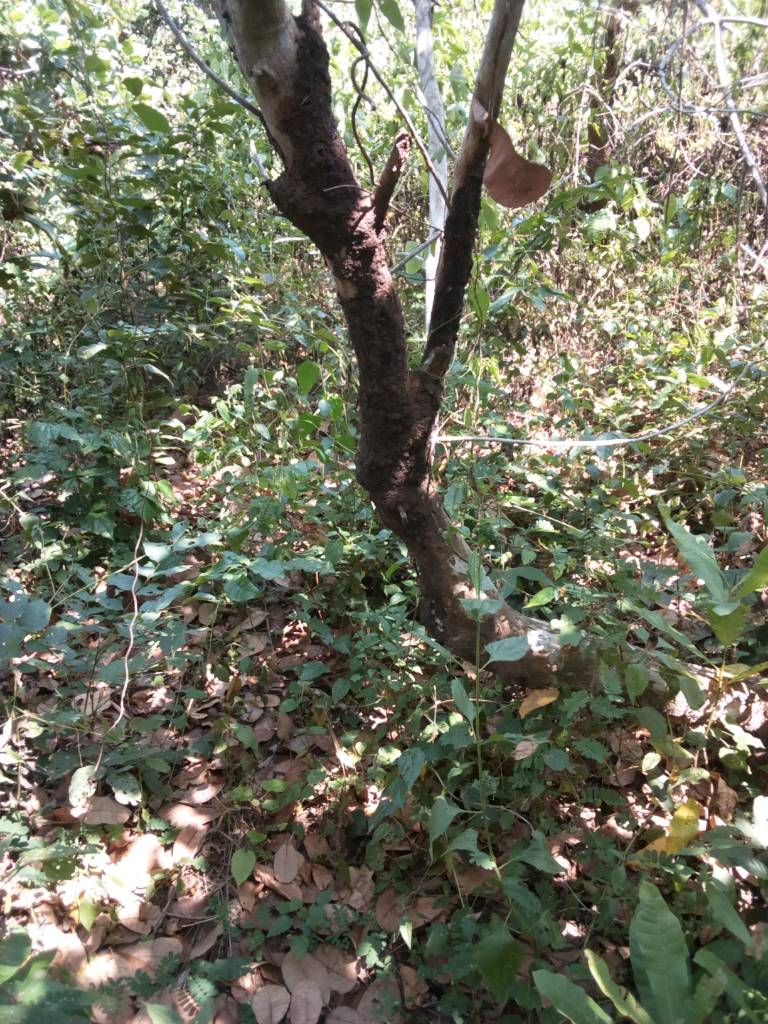Termites: (355, 266, 413, 503)
